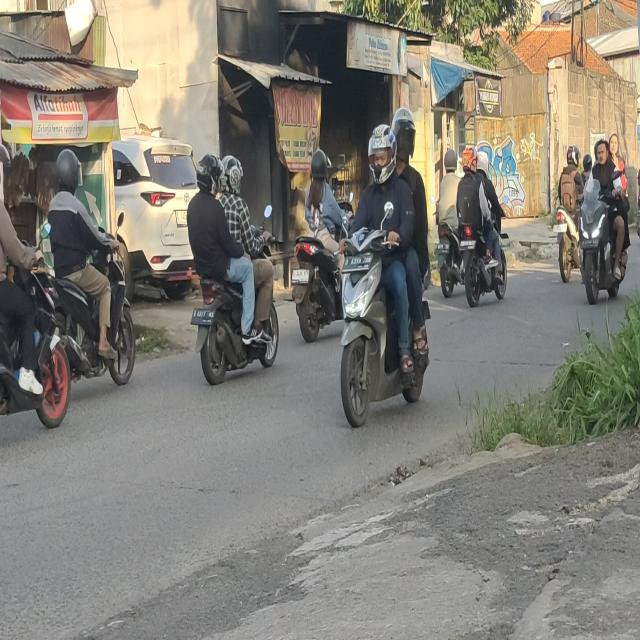helmet: (57, 147, 165, 199), (369, 127, 398, 182), (391, 110, 417, 162), (197, 152, 222, 195), (224, 155, 244, 196), (312, 148, 328, 180), (462, 149, 478, 175), (566, 144, 580, 168), (444, 149, 456, 172), (476, 151, 489, 172), (582, 155, 592, 169)
no-helmet: (598, 142, 608, 162), (609, 134, 619, 153)
